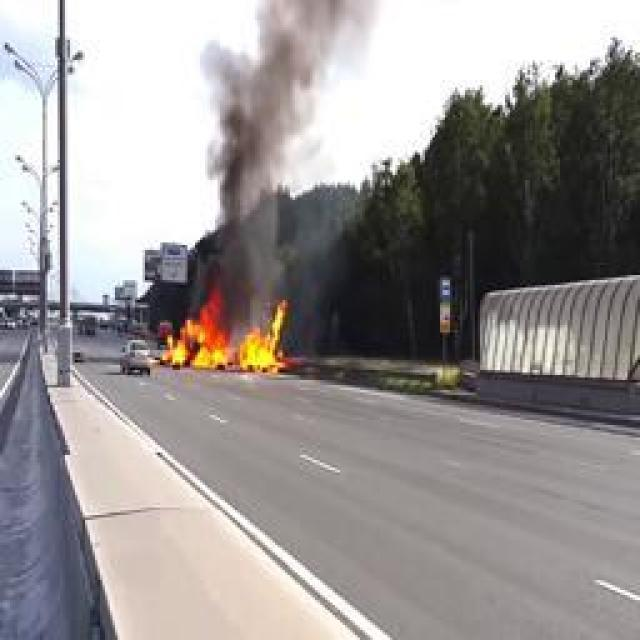Fire: (162, 287, 288, 375)
